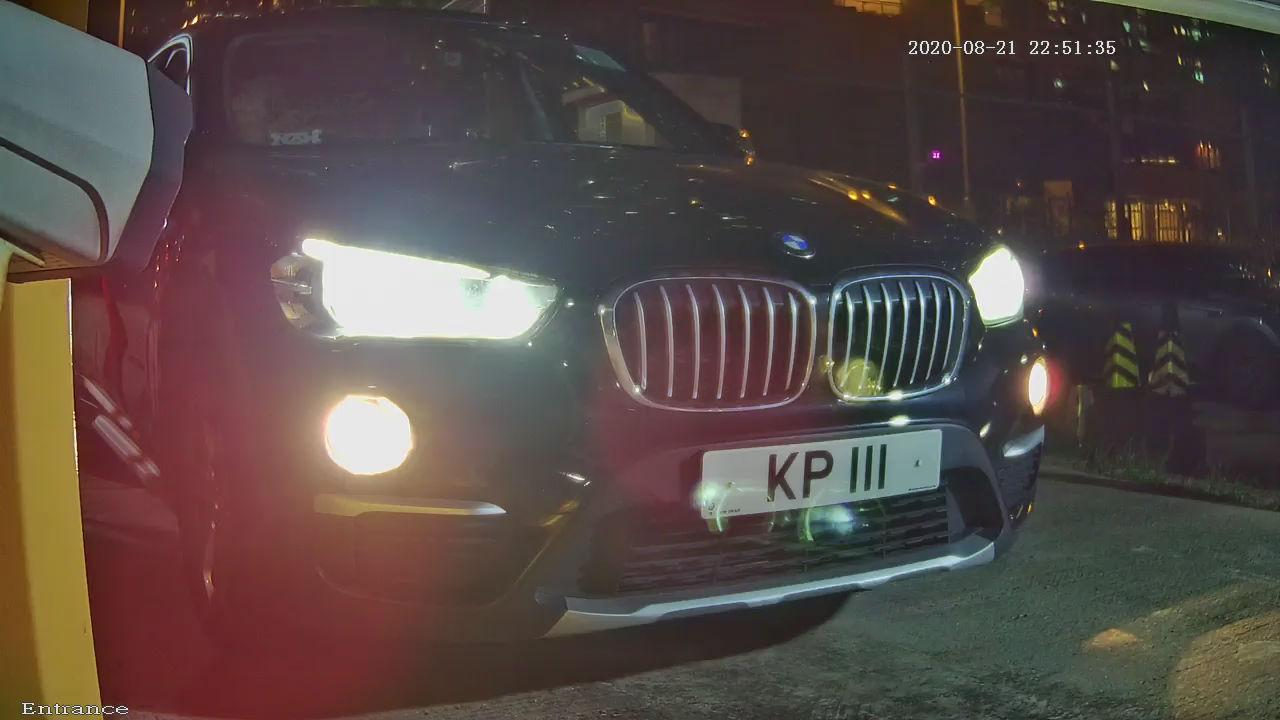License Plate: (647, 392, 984, 560)
